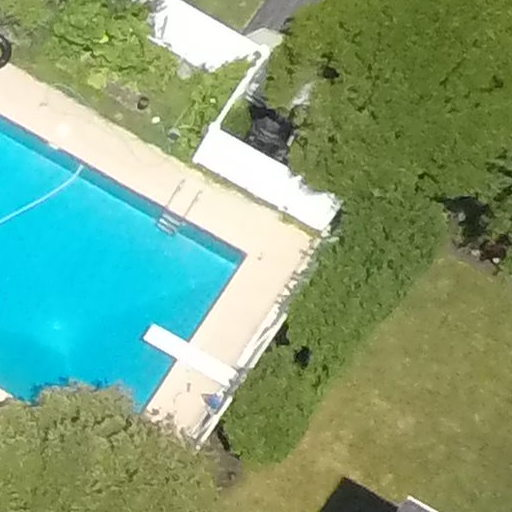pool: (1, 108, 248, 428)
